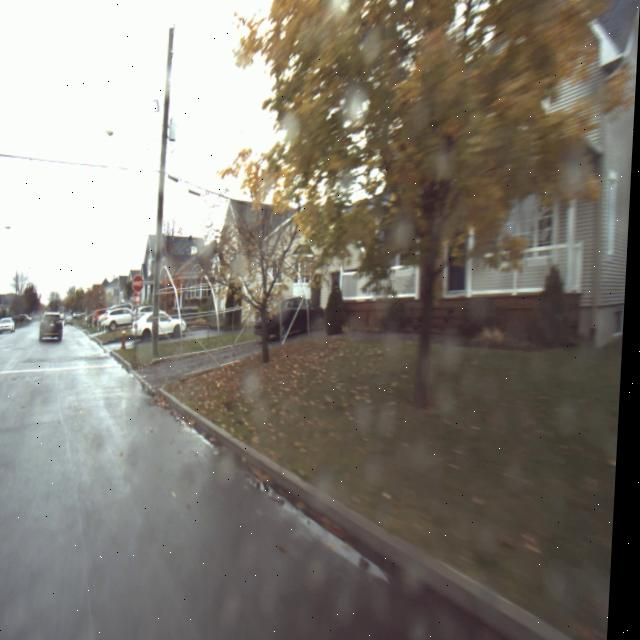car: (38, 298, 72, 346)
